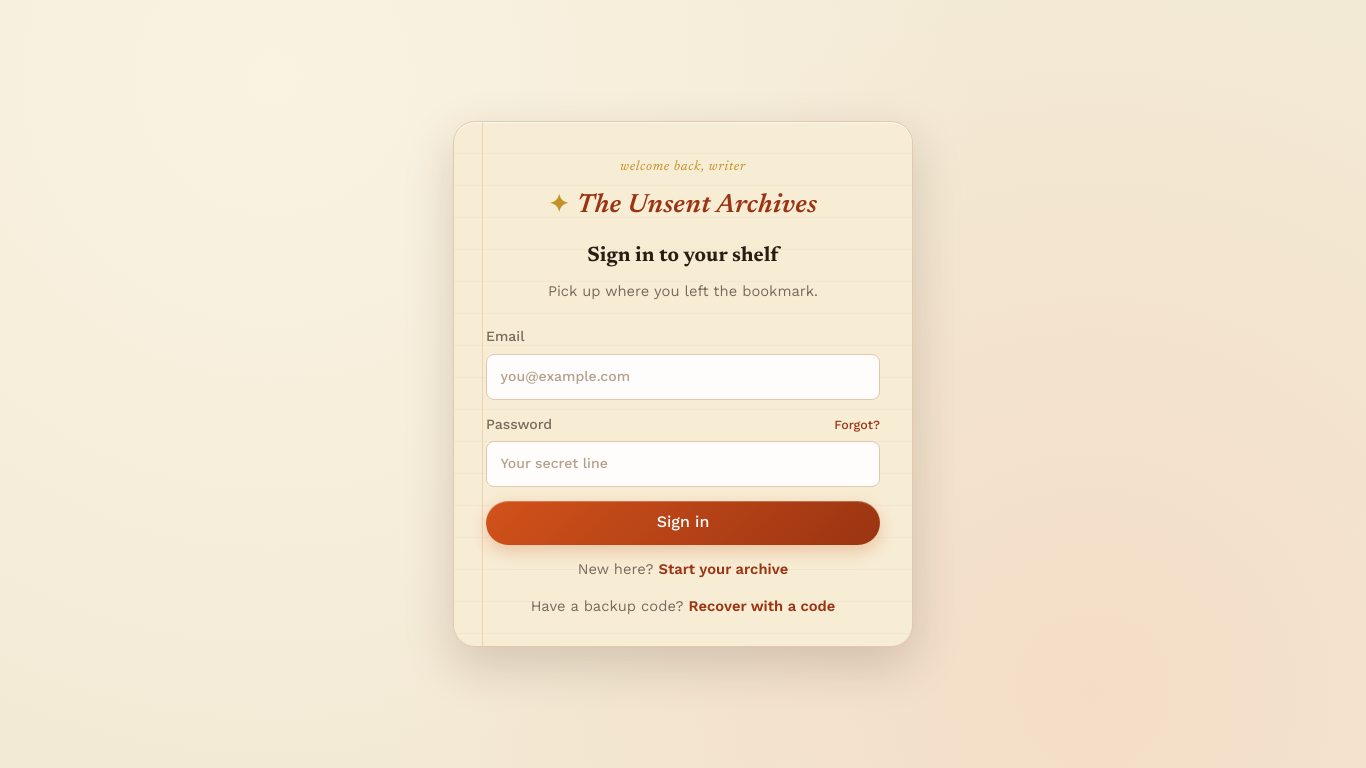
Login page › says the server is unreachable when the request never got a response
Type "me@example.com" into the field with placeholder "you@example.com".
click(683, 377); type("me@example.com")  # box [486,354,880,400]
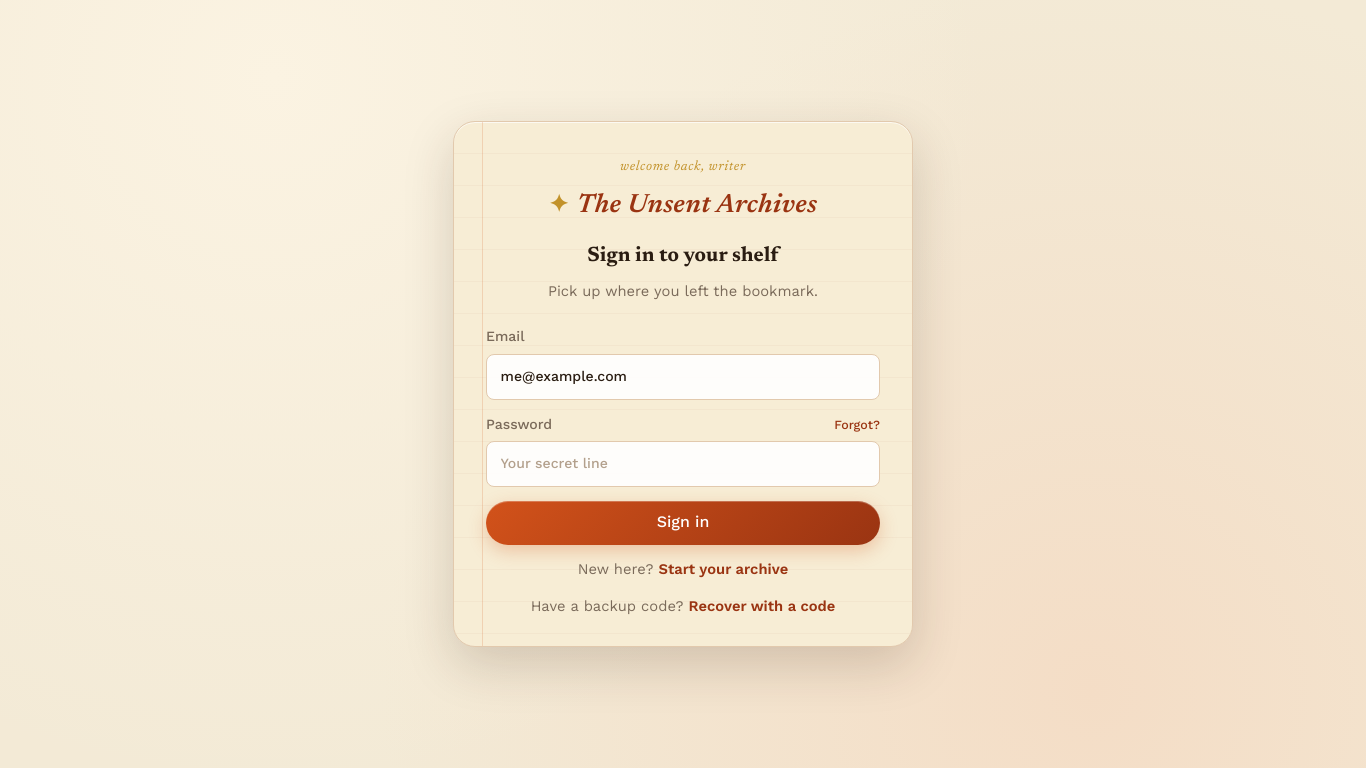
Type "hunter22" into the password field with placeholder "Your secret line".
click(683, 464); type("hunter22")  # box [486,441,880,487]
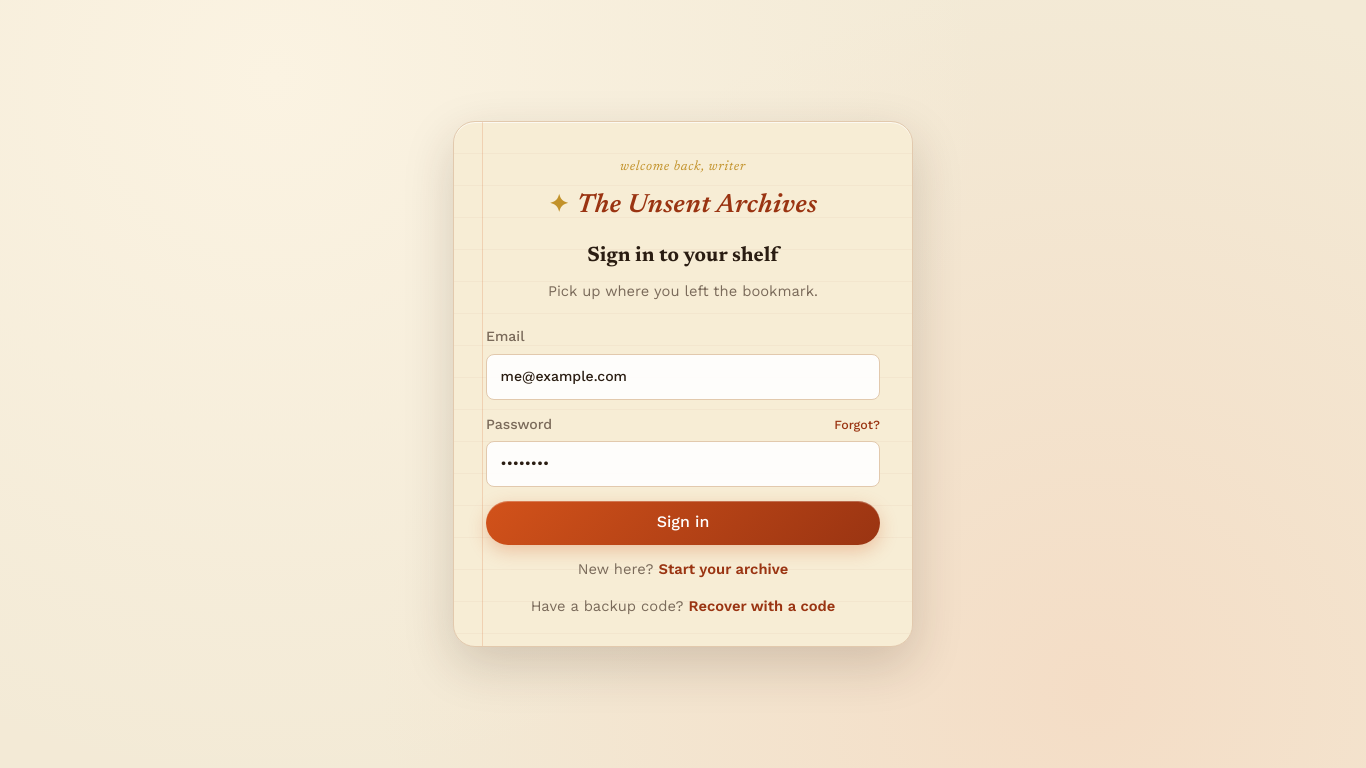
Click the button "Sign in".
click(683, 523)  # box [486,501,880,545]
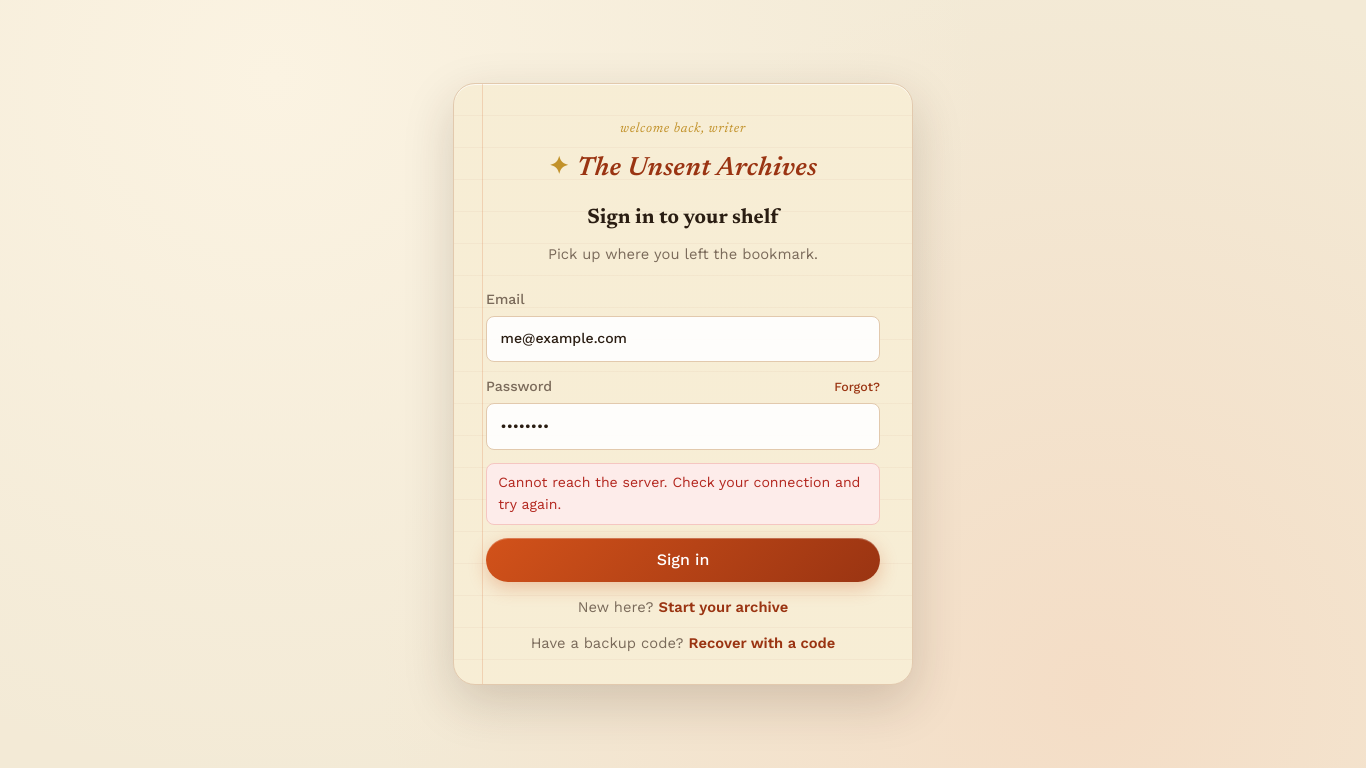
Result: the text "Cannot reach the server" is shown at [498,474,860,512]
